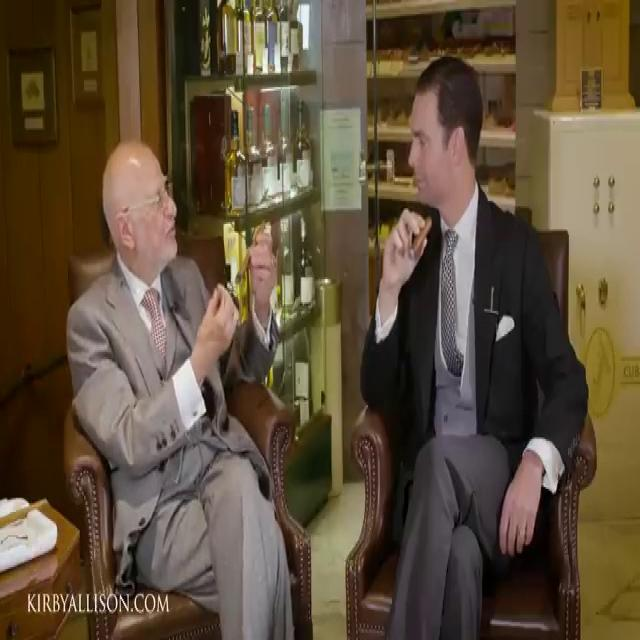Smooking: (402, 206, 437, 274)
